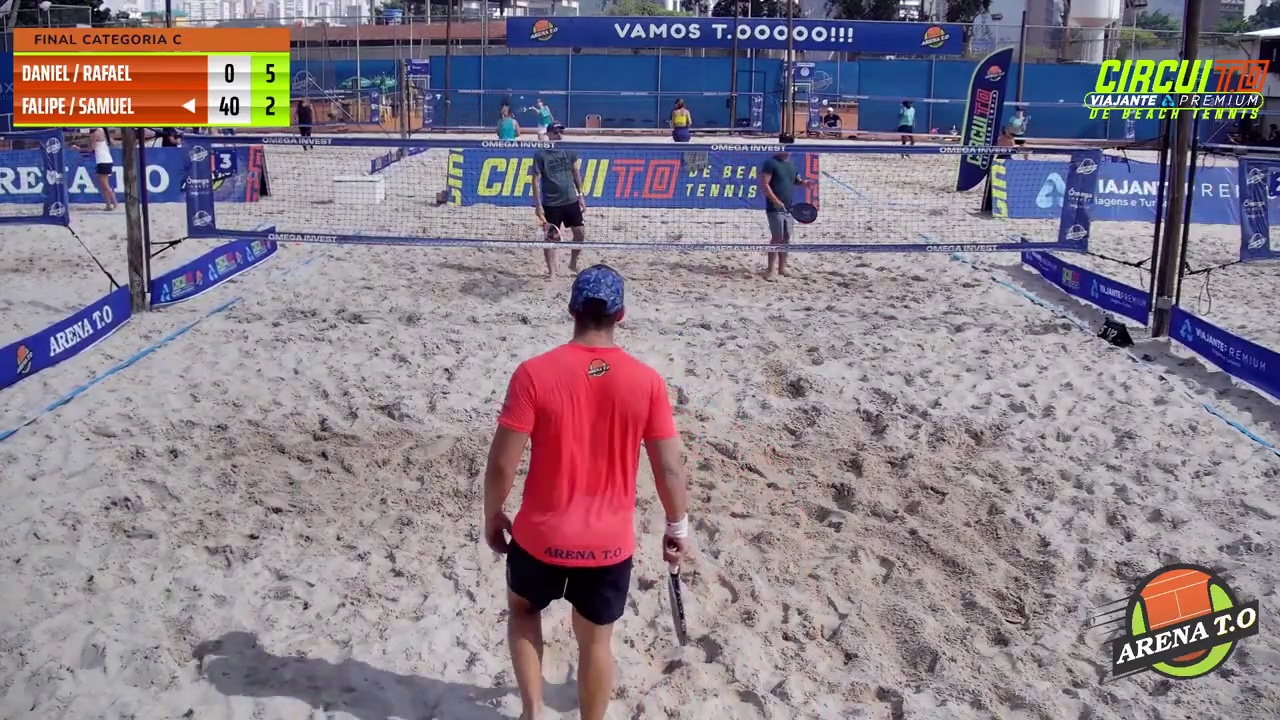court_line: (628, 0, 804, 522)
